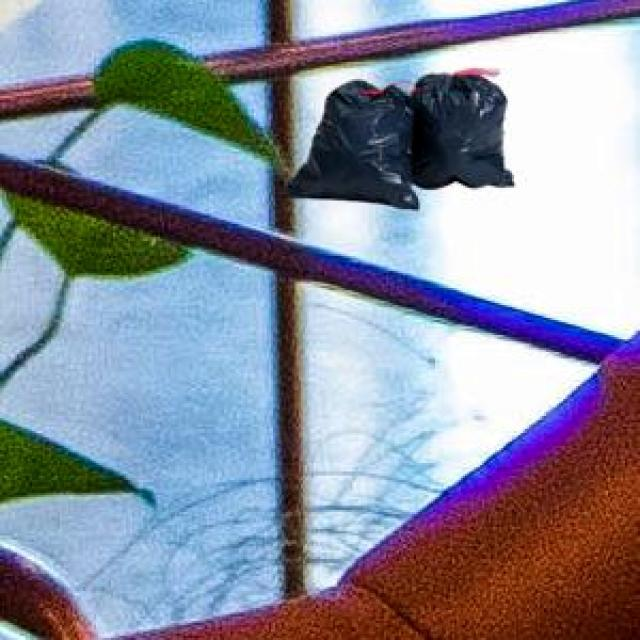Garbage_Bag: (278, 65, 511, 206)
